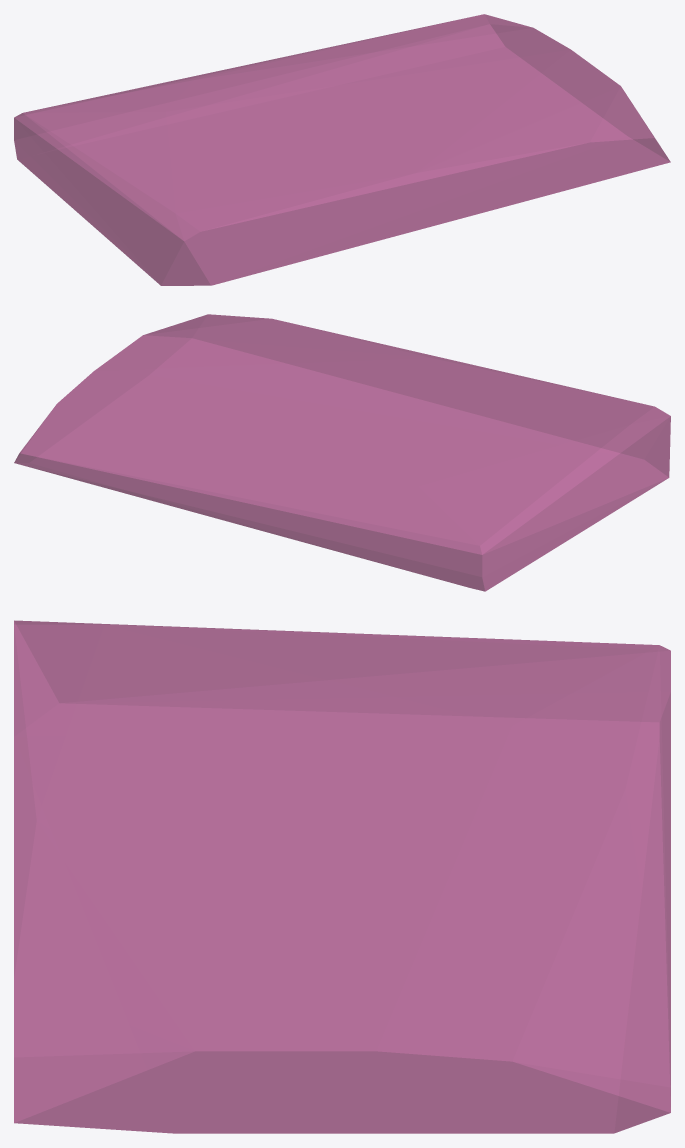
3 views of the same model, one above another, from view 1: azimuth 30°, elevation 25°; view 2: azimuth 150°, elevation 25°; view 3: azimuth 270°, elevation 25° (orthographic). The views are drawn at different scales.
Visible parts, largest first — view 1: Shape_IndexedFaceSet.007_Shape_IndexedFaceSet.1745; view 2: Shape_IndexedFaceSet.007_Shape_IndexedFaceSet.1745; view 3: Shape_IndexedFaceSet.007_Shape_IndexedFaceSet.1745.
Part boxes in pixels (bbox=[...]): Shape_IndexedFaceSet.007_Shape_IndexedFaceSet.1745: bbox=[14, 14, 670, 285]; Shape_IndexedFaceSet.007_Shape_IndexedFaceSet.1745: bbox=[14, 314, 670, 591]; Shape_IndexedFaceSet.007_Shape_IndexedFaceSet.1745: bbox=[14, 620, 670, 1133].
Size of the model in its own units: 0.035 by 0.0038 by 0.022.
